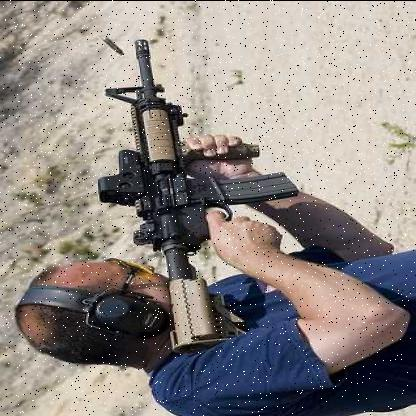rifle: (60, 29, 322, 355)
